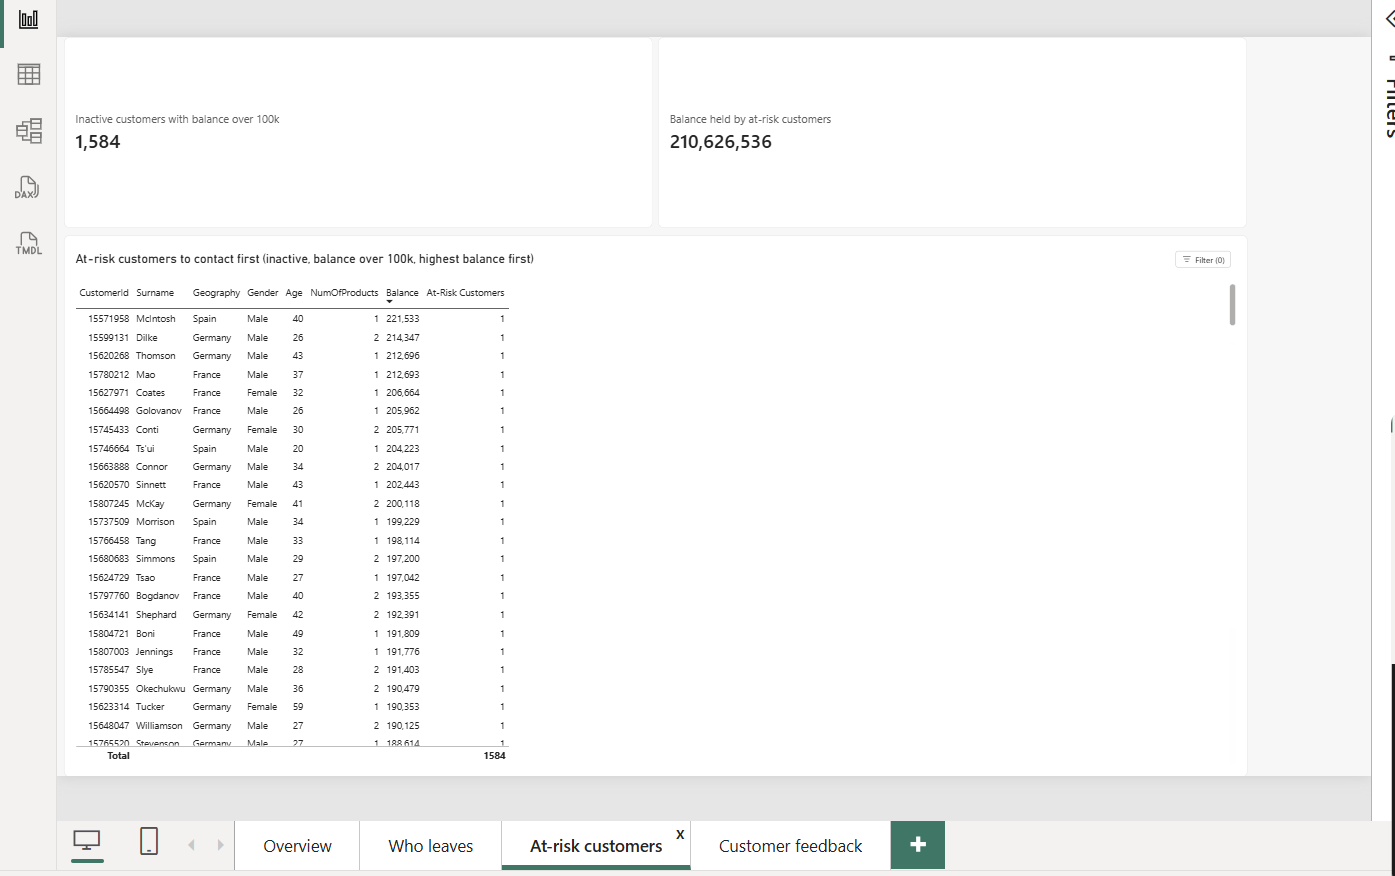

This screenshot's page, from the dashboard's own definition file:
{"tool":"powerbi","page":{"name":"At-risk customers","canvas":[1920,1080],"ordinal":2},"visuals":[{"type":"cardVisual","fields":{"Data":["bank_customers.Inactive customers with balance over 100k","bank_customers.Balance held by at-risk customers"]},"box":[10.2,0,1729.6,279.4],"z":0},{"type":"tableEx","title":"At-risk customers to contact first (inactive, balance over 100k, highest balance first)","fields":{"Values":["bank_customers.CustomerId","bank_customers.Surname","bank_customers.Geography","bank_customers.Gender","bank_customers.Age","bank_customers.NumOfProducts","bank_customers.Balance","bank_customers.At-Risk Customers"]},"box":[10.2,289.6,1729.6,791.4],"z":1}]}

Visuals, with their boxes on the page's 1920x1080 design canvas (x1, y1, x2, y2). These are canvas units, not pixel positions in the 1395x876 screenshot, which may show the page scaled, cropped or inside an application window:
cardVisual - bank_customers.Inactive customers with balance over 100k x bank_customers.Balance held by at-risk customers: pyautogui.locateOnScreen(10, 0, 1740, 279)
"At-risk customers to contact first (inactive, balance over 100k, highest balance first)" tableEx: pyautogui.locateOnScreen(10, 290, 1740, 1081)
